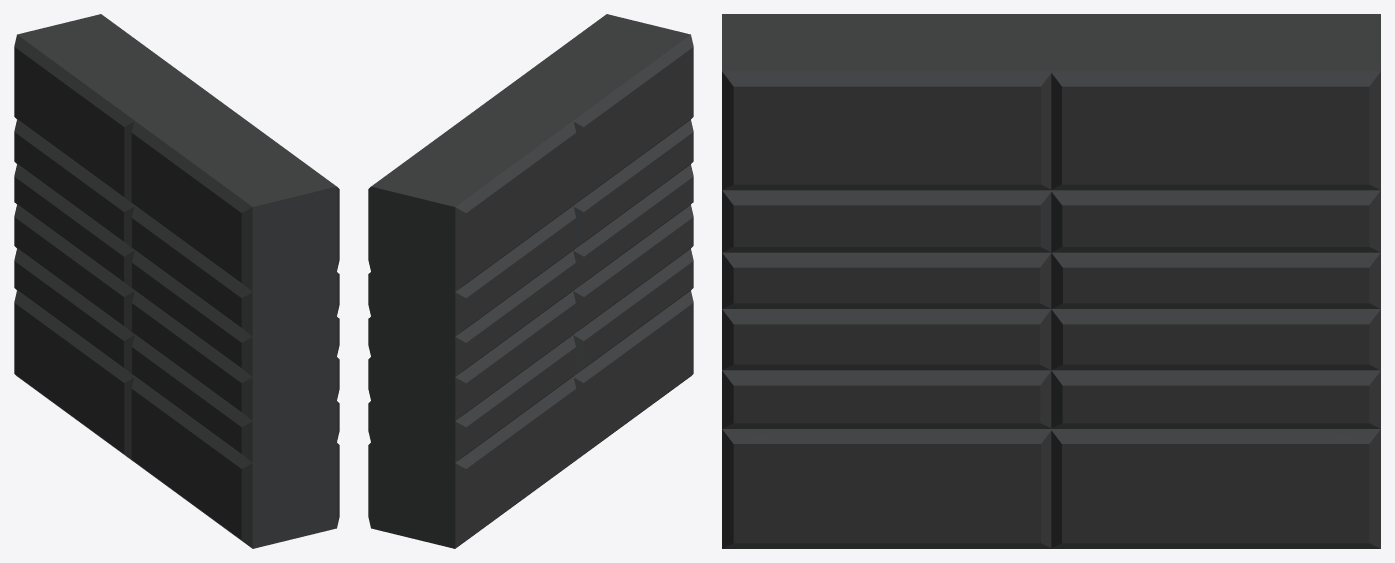
File: floor.fbx
The picture shows the model from 3 angles, left to right: view 1: azimuth 30°, elevation 25°; view 2: azimuth 150°, elevation 25°; view 3: azimuth 270°, elevation 25°; orthographic projection. The views are drawn at different scales.
Parts seen in each view (by area): view 1: wall2.001; view 2: wall2.001; view 3: wall2.001.
Part boxes in pixels (x1,y1,x2,y2): wall2.001: (14,14,339,548); wall2.001: (368,14,693,548); wall2.001: (722,14,1380,548).
Size of the model in its own units: 240 by 800 by 1000.
